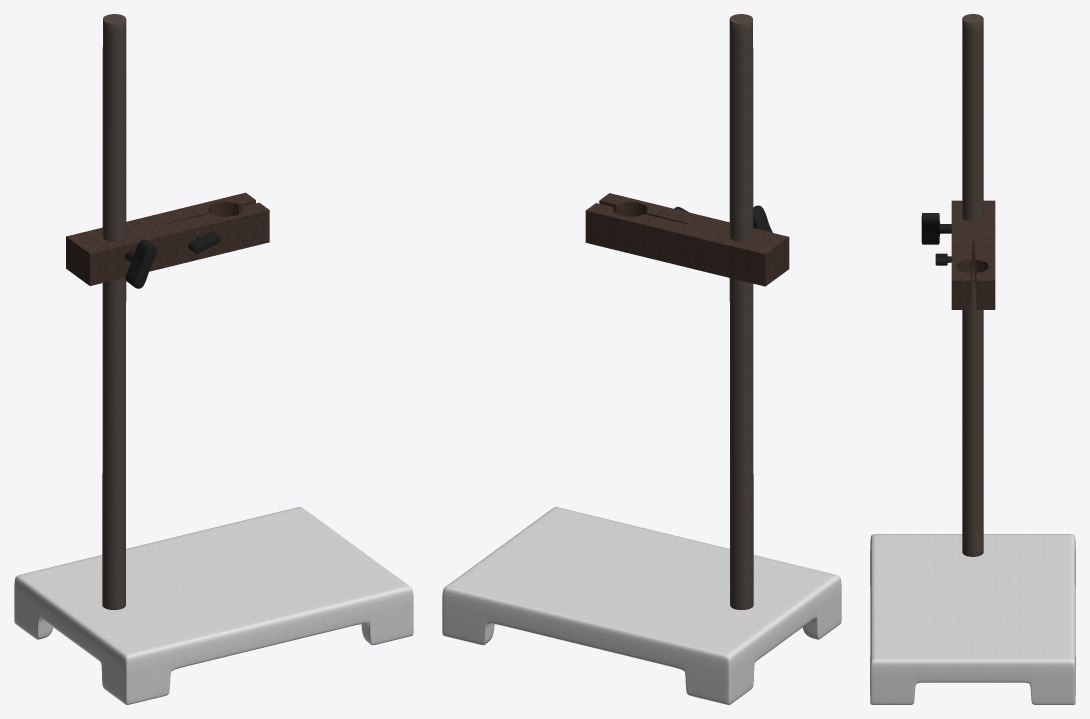
Rendered from burette_stand.glb.
3 views of the same model, side by side, from view 1: azimuth 30°, elevation 25°; view 2: azimuth 150°, elevation 25°; view 3: azimuth 270°, elevation 25° (orthographic). The views are drawn at different scales.
Visible parts, largest first — view 1: polySurface2, polySurface1, pCube4, polySurface5; view 2: polySurface2, polySurface1, pCube4; view 3: polySurface2, polySurface1, pCube4, polySurface5.
Boxes of the visible parts, <box> form: polySurface2: <box>14,507,413,704</box>; polySurface1: <box>102,14,126,609</box>; pCube4: <box>66,192,269,285</box>; polySurface5: <box>125,239,157,288</box>; polySurface2: <box>442,507,841,704</box>; polySurface1: <box>729,14,753,609</box>; pCube4: <box>585,193,789,286</box>; polySurface2: <box>870,534,1075,704</box>; polySurface1: <box>962,14,983,556</box>; pCube4: <box>951,200,995,309</box>; polySurface5: <box>921,213,951,244</box>.
Bounding box in the file's own units: 0.2491 × 0.5244 × 0.1689.
4 materials, 3 textured.
